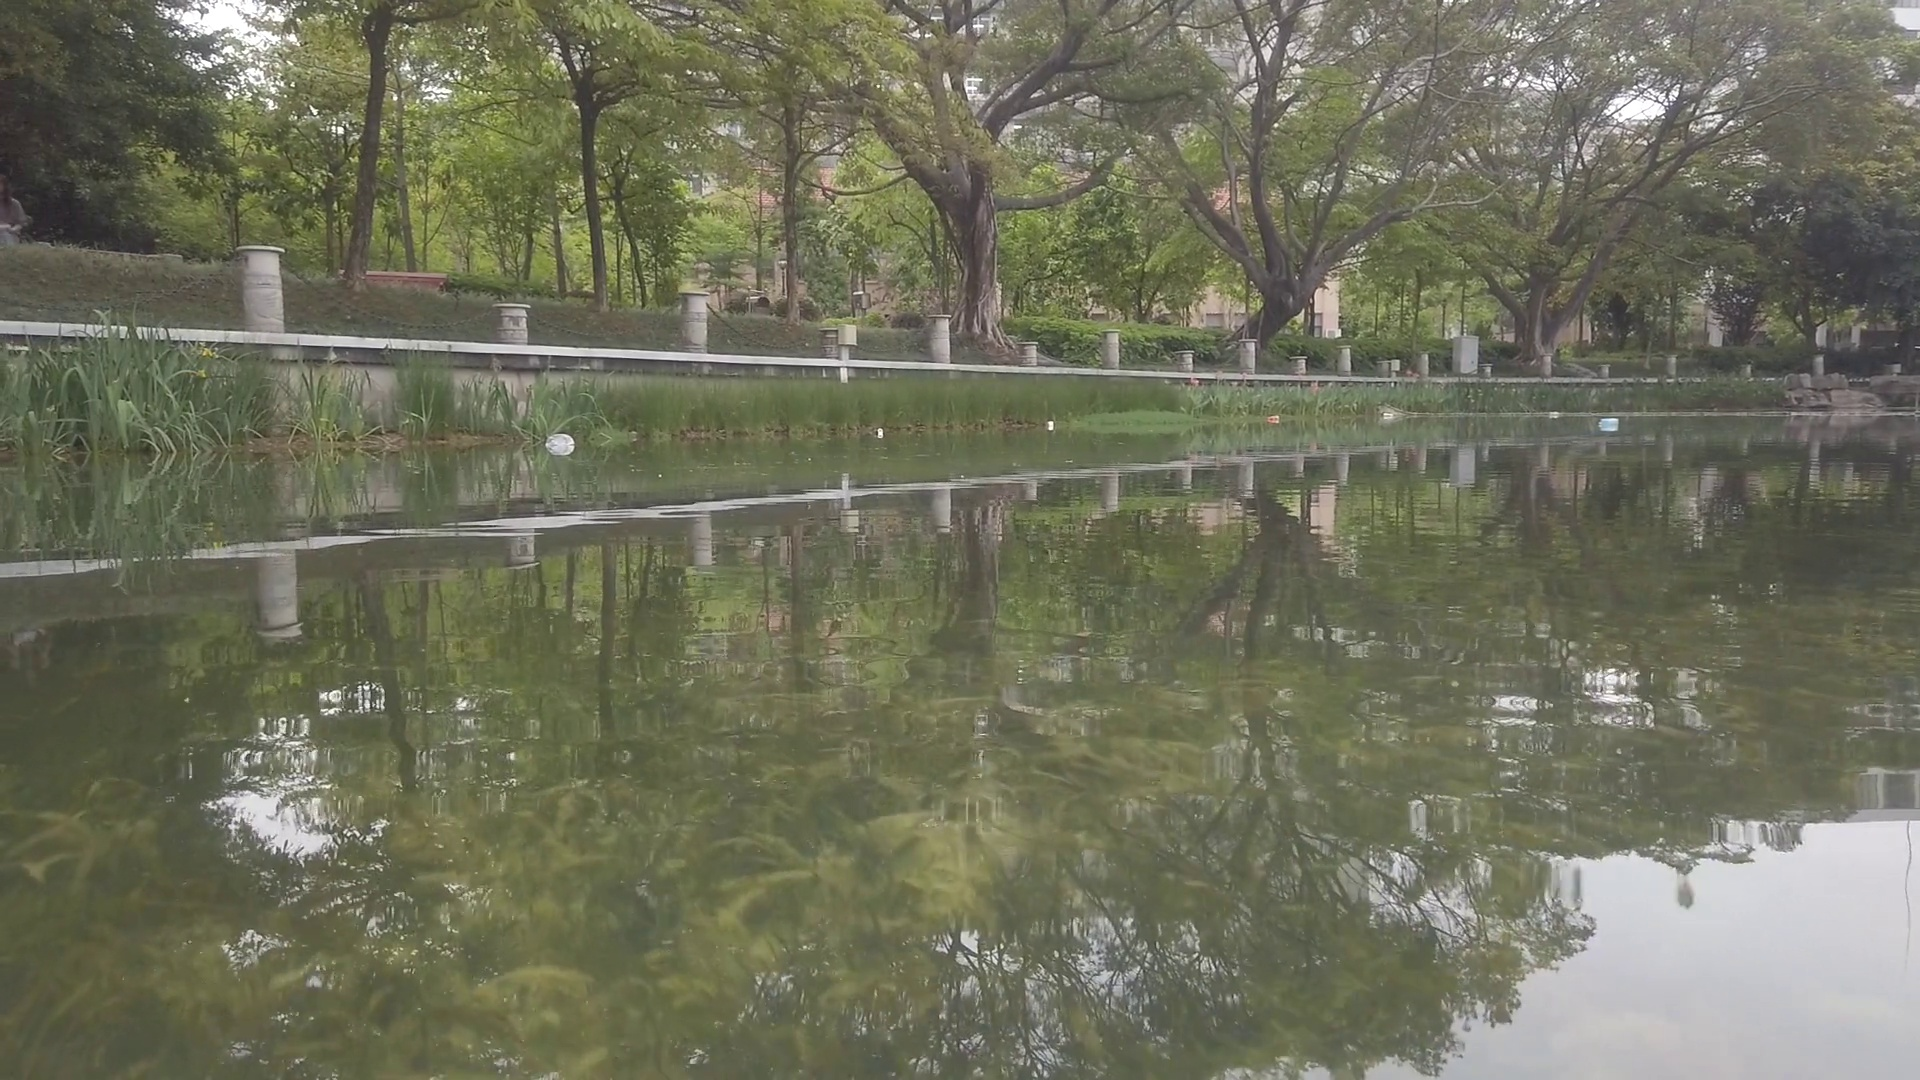bottle: (1547, 411, 1560, 419), (874, 427, 884, 438), (1269, 414, 1279, 422), (1383, 411, 1393, 418)
carton: (1600, 418, 1619, 427), (1046, 419, 1055, 431)
plastic: (546, 433, 578, 448)
